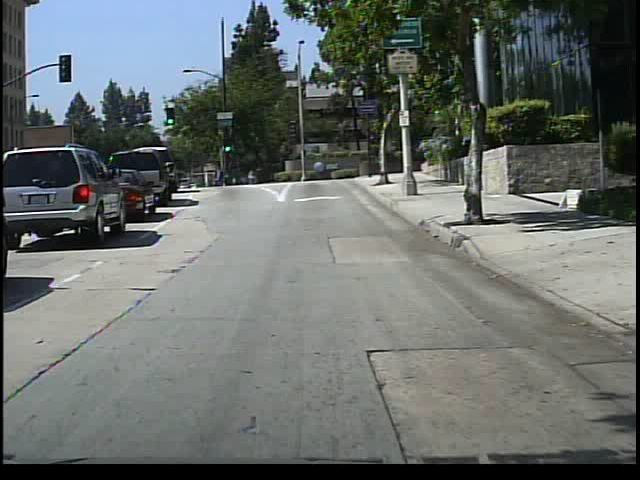person: (213, 164, 228, 188), (245, 164, 260, 188)
